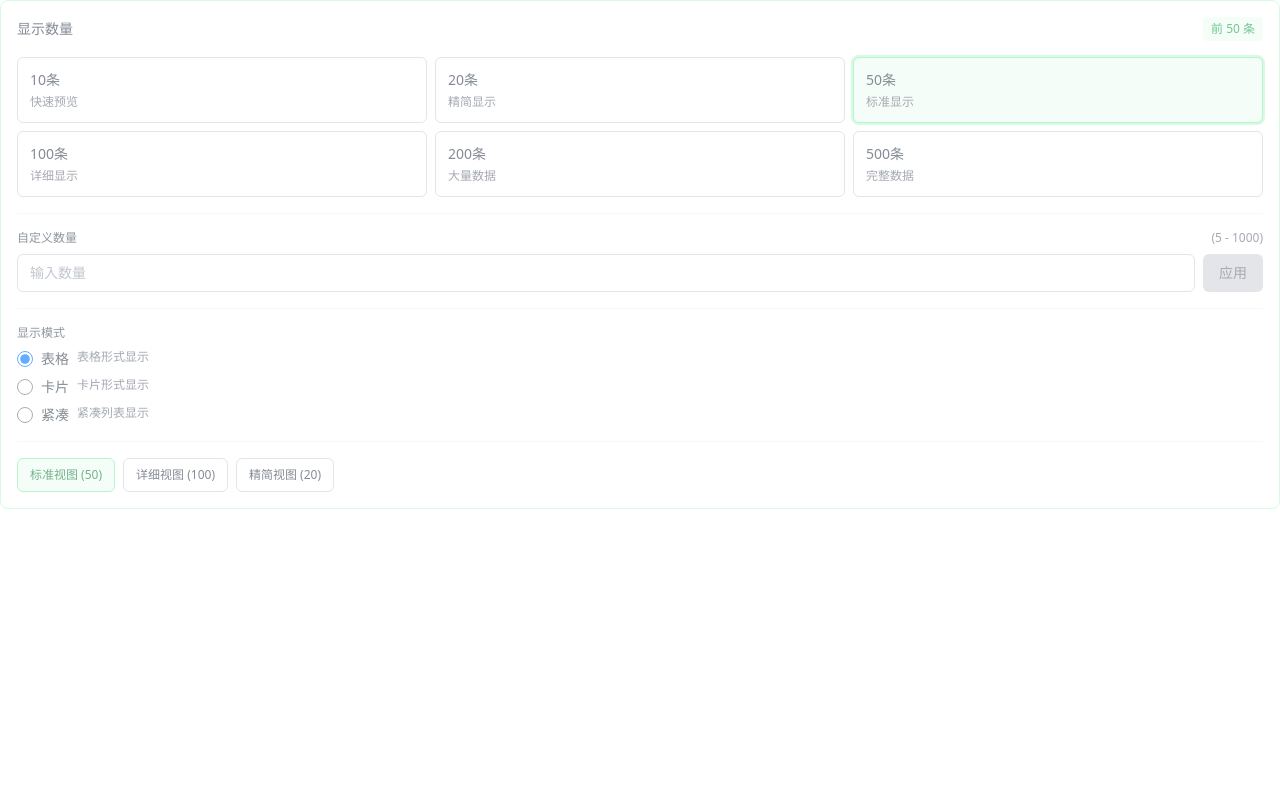
Test: HotWordLimitSelector › 性能警告功能 › 应该在数量超过推荐值时显示警告
Click the button with class "limit-button" showing "500条 完整数据" at (885, 154), box [853,131,1263,197]
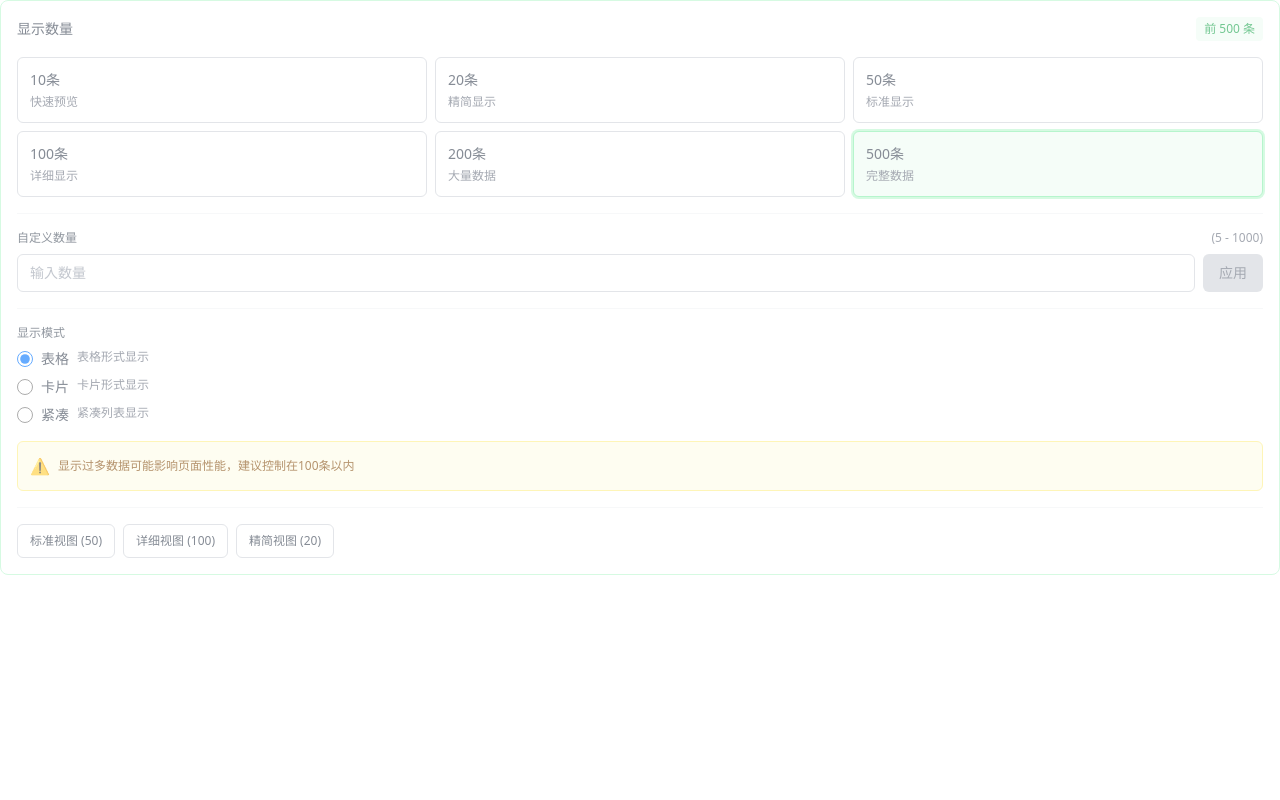
Expected: the element with class "hot-word-limit-selector__warning" is shown, [17,441,1263,491]
Expected: the element with class "hot-word-limit-selector__warning" shows "显示过多数据可能影响页面性能", [58,457,355,474]
